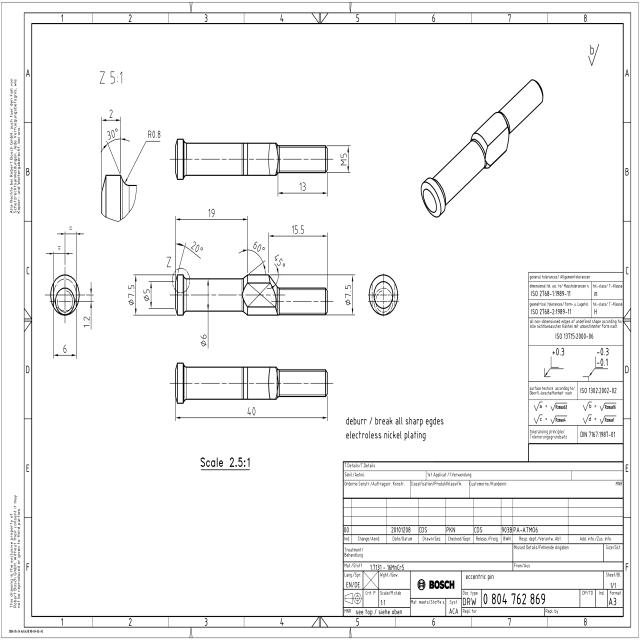dimension: (174, 402, 330, 423), (124, 128, 162, 183), (54, 225, 86, 283), (267, 221, 330, 245), (174, 206, 250, 225), (46, 243, 74, 282), (173, 239, 205, 273), (238, 238, 266, 276), (276, 180, 330, 198), (197, 278, 210, 350), (99, 126, 131, 153), (327, 142, 351, 177), (80, 280, 95, 332), (125, 272, 142, 317), (343, 274, 357, 317), (271, 251, 288, 286), (99, 105, 123, 126), (52, 342, 78, 361), (142, 278, 155, 310)
